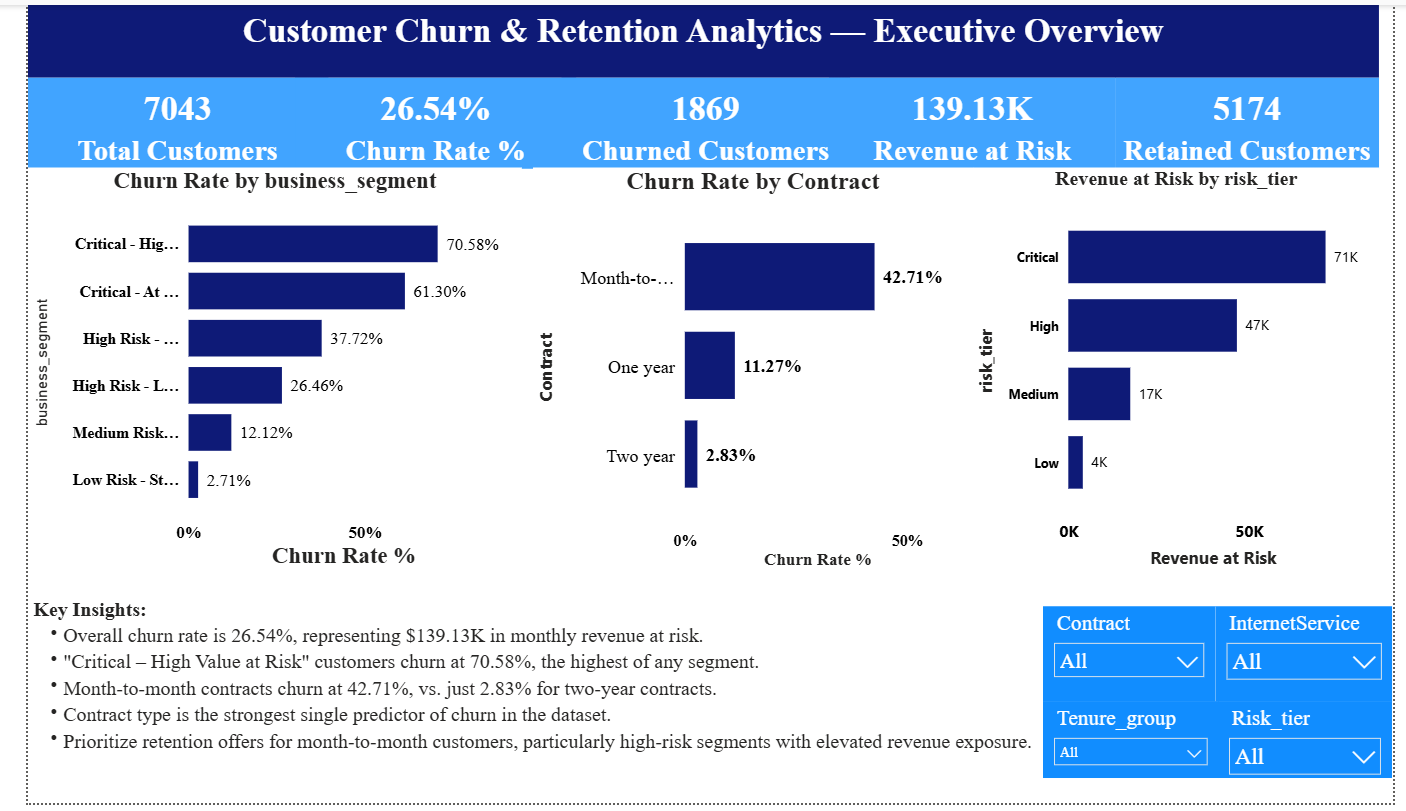

The page's visual inventory and layout, read from the dashboard file:
{"tool":"powerbi","page":{"name":"Executive Overview","canvas":[1280,749],"ordinal":0},"visuals":[{"type":"card","fields":{"Values":["telco_churn_customers.Total Customers"]},"box":[0,67.6,281.2,85.4],"z":0},{"type":"card","fields":{"Values":["telco_churn_customers.Churned Customers"]},"box":[500.1,67.6,270.5,85.4],"z":1000},{"type":"card","fields":{"Values":["telco_churn_customers.Churn Rate %"]},"box":[250.9,67.6,263.4,85.4],"z":2000},{"type":"card","fields":{"Values":["telco_churn_customers.Revenue at Risk"]},"box":[751.1,67.6,268.7,85.4],"z":3000},{"type":"card","fields":{"Values":["telco_churn_customers.Retained Customers"]},"box":[1019.8,67.6,247.4,85.4],"z":4000},{"type":"clusteredBarChart","title":"Churn Rate  by business_segment","fields":{"Y":["telco_churn_customers.Churn Rate %"],"Category":["telco_churn_customers.business_segment"]},"box":[0,152.9,463.1,380.9],"z":5000},{"type":"clusteredBarChart","title":"Churn Rate by Contract","fields":{"Category":["telco_churn_customers.Contract"],"Y":["telco_churn_customers.Churn Rate %"]},"box":[473.2,152.9,412.6,380.9],"z":6000},{"type":"textbox","box":[0,0,1267.2,67.6],"z":7000},{"type":"slicer","fields":{"Values":["telco_churn_customers.Contract"]},"box":[952.2,564.1,161.6,89.5],"z":8000},{"type":"slicer","fields":{"Values":["telco_churn_customers.InternetService"]},"box":[1113.8,564.1,165.9,89.5],"z":9000},{"type":"slicer","fields":{"Values":["telco_churn_customers.risk_tier"]},"box":[1116.7,653.6,163,72.1],"z":10000},{"type":"textbox","box":[0,571.3,946.5,164.5],"z":11000},{"type":"slicer","fields":{"Values":["telco_churn_customers.tenure_group"]},"box":[952.2,653.6,164.5,72.1],"z":12000},{"type":"clusteredBarChart","fields":{"Y":["telco_churn_customers.Revenue at Risk"],"Category":["telco_churn_customers.risk_tier"]},"box":[885.9,152.9,380.9,380.9],"z":13000}]}

Visuals, with their boxes in screenshot pixels (x1, y1, x2, y2), scaled from the page's 1280x749 canvas onto the 1406x811 screenshot:
card - telco_churn_customers.Total Customers: <box>0,73,309,166</box>
card - telco_churn_customers.Churned Customers: <box>549,73,846,166</box>
card - telco_churn_customers.Churn Rate %: <box>276,73,565,166</box>
card - telco_churn_customers.Revenue at Risk: <box>825,73,1120,166</box>
card - telco_churn_customers.Retained Customers: <box>1120,73,1392,166</box>
"Churn Rate  by business_segment" clusteredBarChart: <box>0,166,509,578</box>
"Churn Rate by Contract" clusteredBarChart: <box>520,166,973,578</box>
textbox: <box>0,0,1392,73</box>
slicer - telco_churn_customers.Contract: <box>1046,611,1223,708</box>
slicer - telco_churn_customers.InternetService: <box>1223,611,1405,708</box>
slicer - telco_churn_customers.risk_tier: <box>1227,708,1405,786</box>
textbox: <box>0,619,1040,797</box>
slicer - telco_churn_customers.tenure_group: <box>1046,708,1227,786</box>
clusteredBarChart - telco_churn_customers.Revenue at Risk x telco_churn_customers.risk_tier: <box>973,166,1392,578</box>
